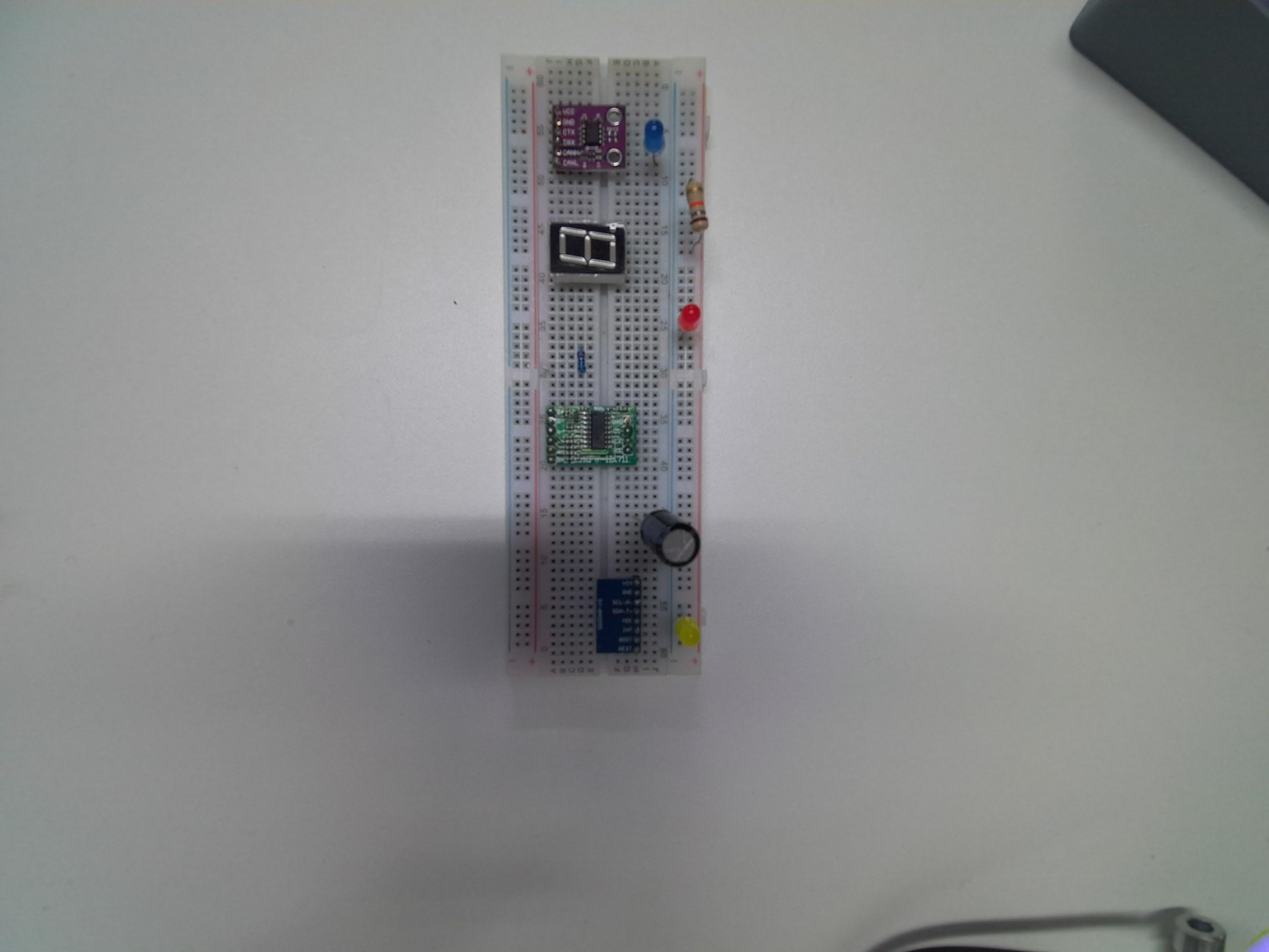base: (495, 52, 713, 682)
blue-board: (592, 574, 645, 660)
blue-led: (641, 115, 665, 157)
capacitor: (634, 505, 700, 569)
digit-board: (544, 219, 625, 288)
green-board: (545, 400, 640, 470)
purple-board: (549, 102, 628, 174)
red-led: (675, 298, 706, 338)
resistor-big: (685, 177, 714, 238)
resistor-small: (573, 343, 589, 376)
yellow-led: (674, 615, 705, 651)
